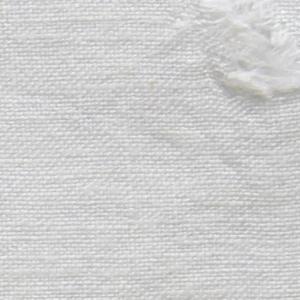Damage: (190, 1, 300, 119)
